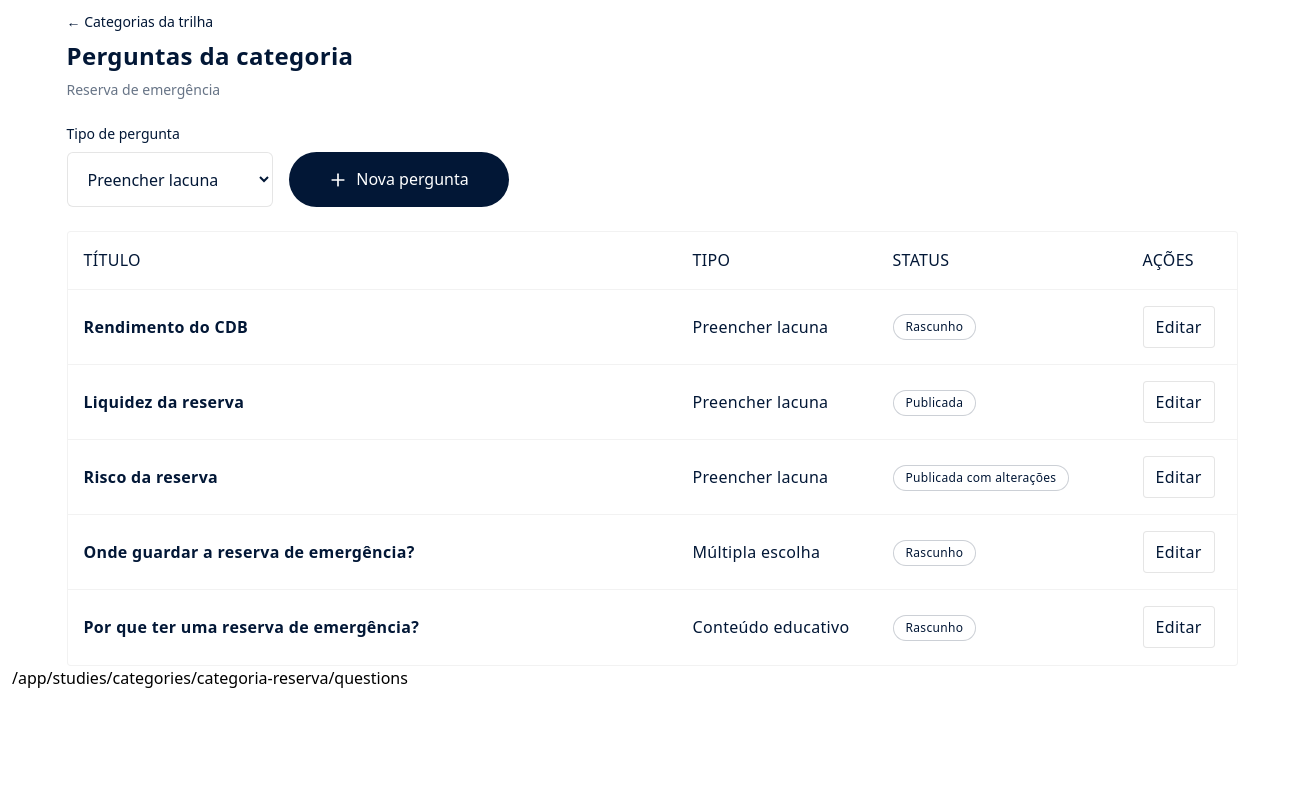
Test: contrato de integracao das rotas da Trilha › preserva o id e o tipo ao abrir a edicao de Rendimento do CDB
This screenshot has width=1292, height=807.
What coordinates should you click on to do the following:
click the link with aria-label "Editar pergunta Rendimento do CDB"
I would click on:
 (1179, 327)
Its box is [1142,306,1215,348].
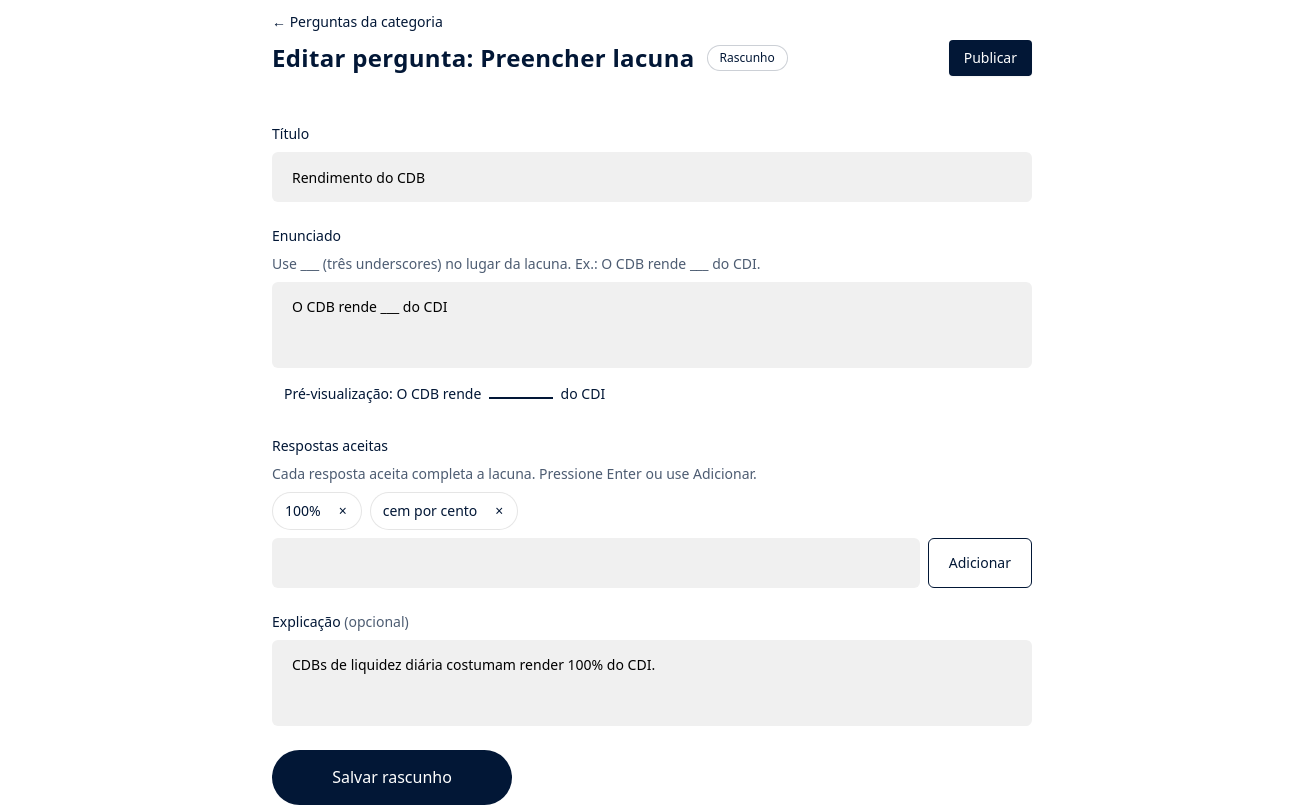
Check: the heading "Editar pergunta: Preencher lacuna" is shown, box [272,42,695,74]
Check: the field labelled "Título" is shown, box [272,152,1032,202]
What coordinates should you click on to do the following:
click the link "← Perguntas da categoria"
I would click on:
 (357, 22)
Its box is [272,12,443,32].
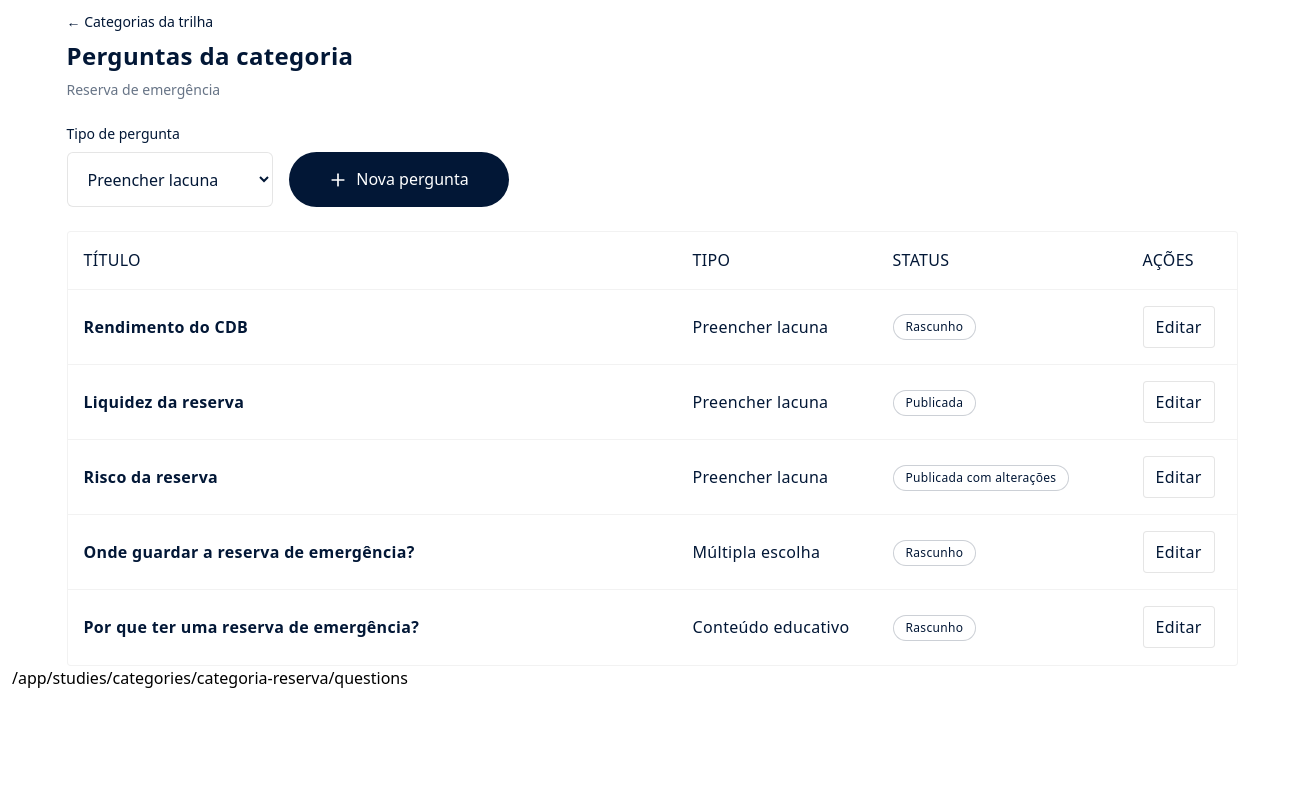
Check: the text with test id "path" reads "/app/studies/categories/categoria-reserva/questions", box [12,666,408,688]
